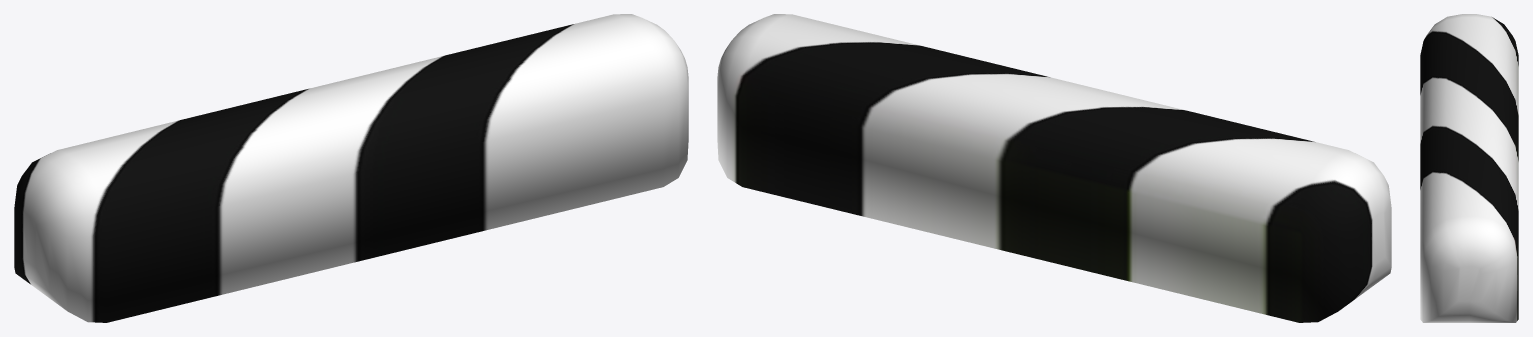
The model's file is stripe.fbx.
The picture shows the model from 3 angles, left to right: view 1: azimuth 30°, elevation 25°; view 2: azimuth 150°, elevation 25°; view 3: azimuth 270°, elevation 25°; orthographic projection. The views are drawn at different scales.
Visible parts, largest first — view 1: stripe; view 2: stripe; view 3: stripe.
Part boxes in pixels (<box>): stripe: <box>14,14,688,322</box>; stripe: <box>717,14,1391,322</box>; stripe: <box>1420,14,1518,322</box>.
Bounding box in the file's own units: 49.36 × 10.26 × 8.89.
